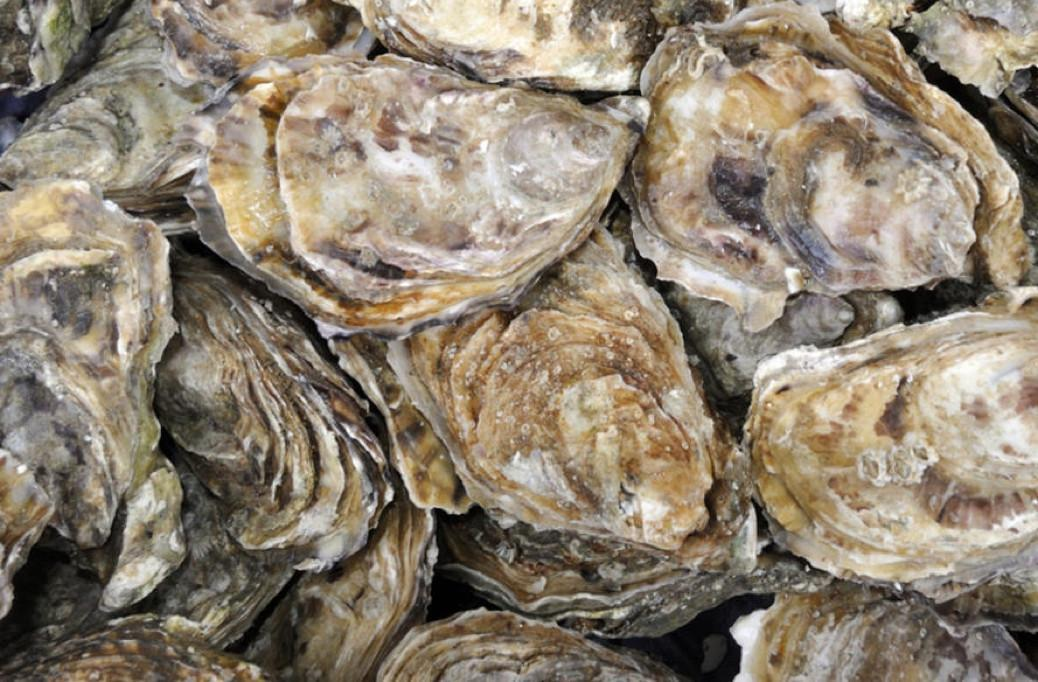3: (184, 55, 652, 338), (383, 230, 712, 551), (629, 55, 982, 335), (641, 3, 1014, 234), (742, 314, 1038, 595), (966, 88, 1038, 169)
Oyster-Closed: (158, 252, 393, 569), (0, 617, 266, 682), (720, 297, 853, 387)
Oyster-Open: (0, 0, 380, 211), (432, 405, 757, 615), (0, 181, 174, 551), (248, 470, 434, 682), (362, 0, 742, 96), (826, 18, 1019, 198), (729, 579, 1038, 682), (127, 458, 292, 644), (668, 285, 906, 397), (376, 610, 692, 682), (904, 0, 1038, 95), (101, 458, 183, 610), (0, 450, 51, 618), (944, 559, 1038, 634)
